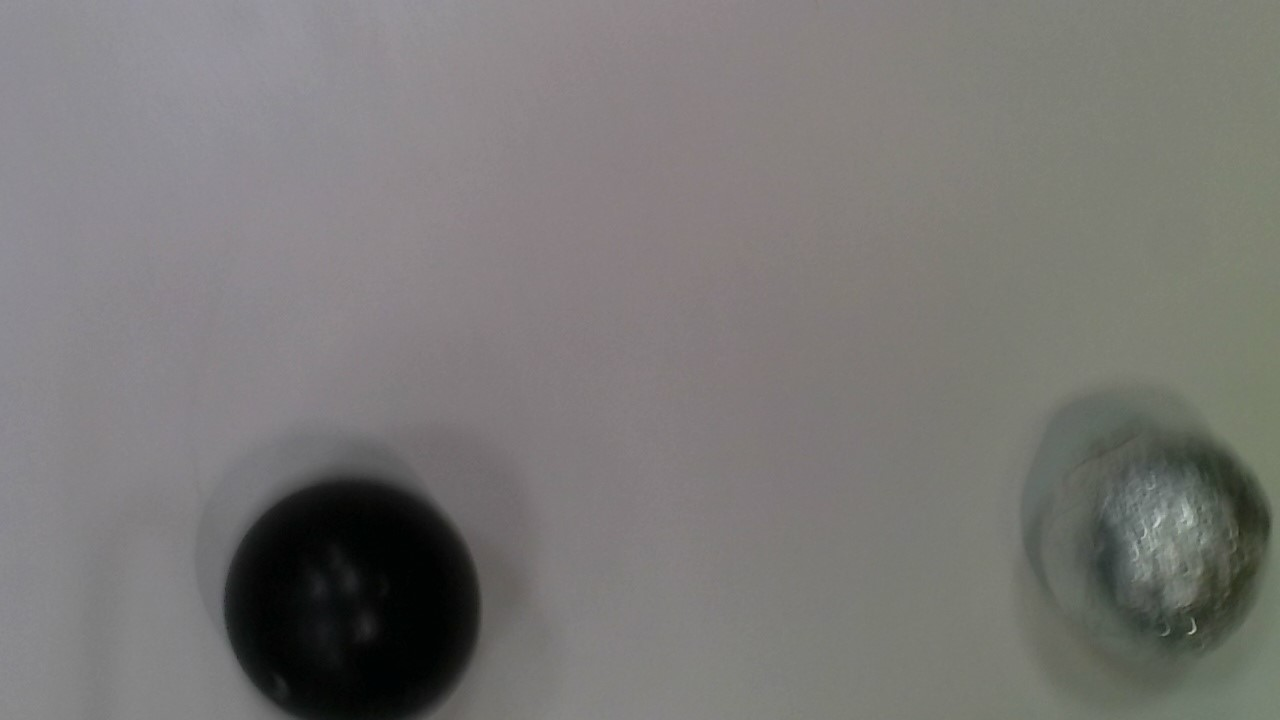black_ball: (209, 472, 496, 720)
silver_ball: (1020, 411, 1276, 687)
